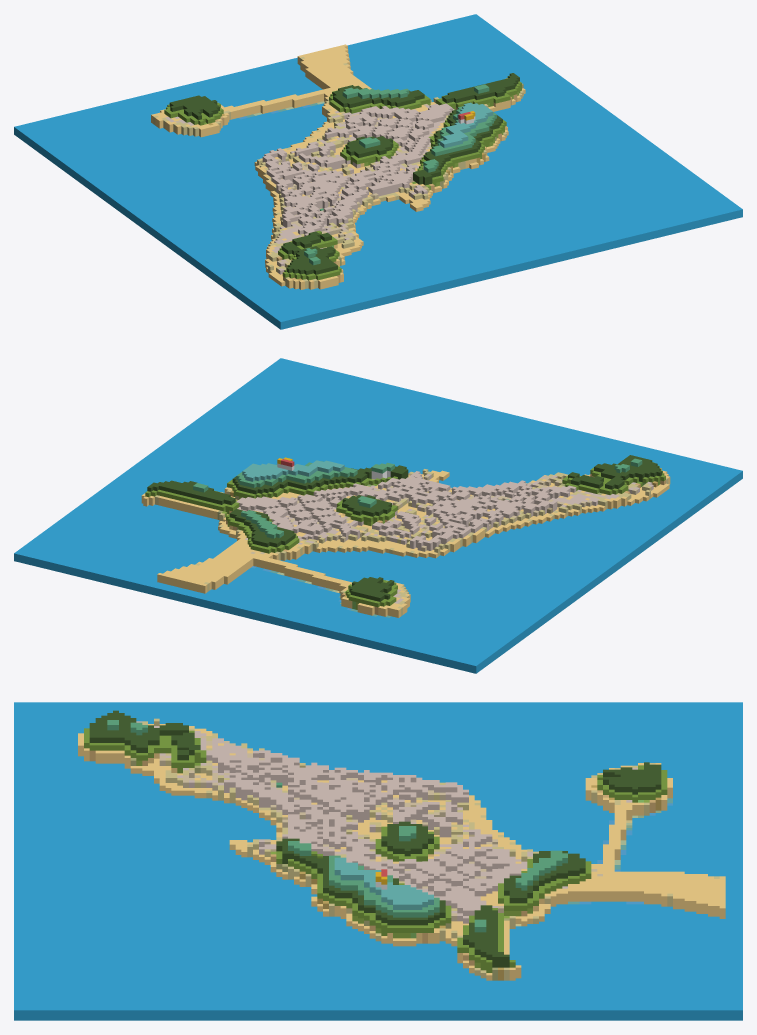
Rendered from 210515guia-1.obj.
3 renders of one model, top to bottom at view 1: azimuth 30°, elevation 25°; view 2: azimuth 150°, elevation 25°; view 3: azimuth 270°, elevation 25°, orthographic. The views are drawn at different scales.
Size of the model in its own units: 12.5 by 1 by 12.5.
Materials: 1 (1 with a texture image).
